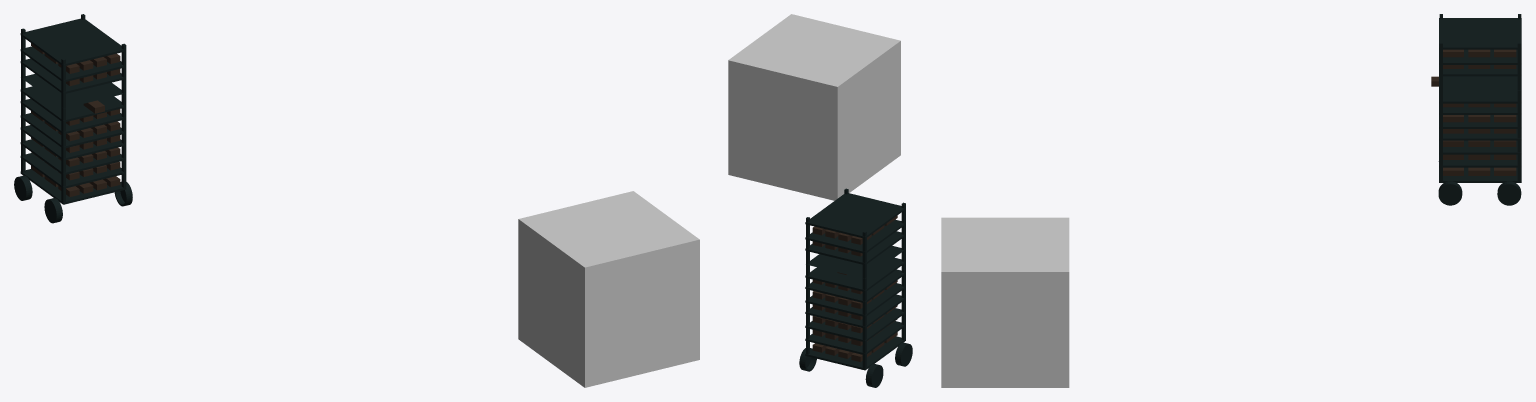
Rendered from stockage2test3.obj.
3 views of the same model, side by side, from view 1: azimuth 30°, elevation 25°; view 2: azimuth 150°, elevation 25°; view 3: azimuth 270°, elevation 25° (orthographic). The views are drawn at different scales.
Visible parts, largest first — view 1: Cube_Cube.001, Cube.14144_Cube.14198; view 2: Cube_Cube.001, Cube.14144_Cube.14198; view 3: Cube_Cube.001, Cube.14144_Cube.14198.
Part boxes in pixels (x1=…): Cube_Cube.001: x1=518, y1=191, x2=699, y2=387; Cube.14144_Cube.14198: x1=14, y1=14, x2=132, y2=223; Cube_Cube.001: x1=728, y1=14, x2=900, y2=200; Cube.14144_Cube.14198: x1=799, y1=188, x2=912, y2=387; Cube_Cube.001: x1=941, y1=217, x2=1069, y2=387; Cube.14144_Cube.14198: x1=1431, y1=14, x2=1521, y2=205.
Bounding box in the file's own units: 6.7 × 3.37 × 9.06.
